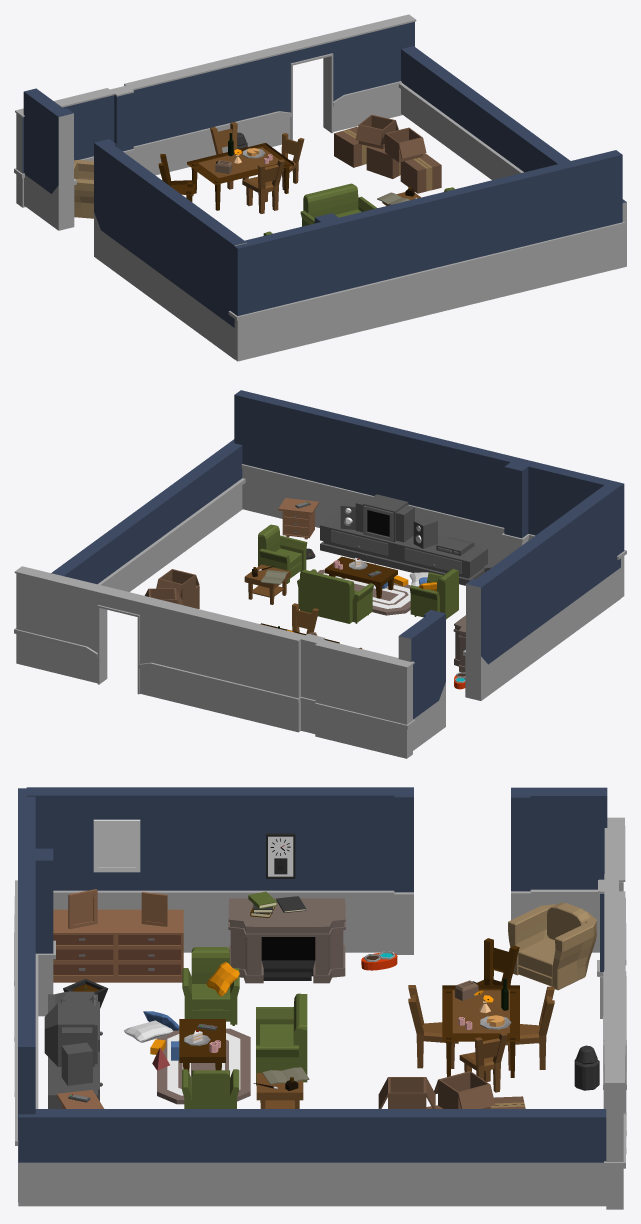
The picture shows the model from 3 angles, top to bottom: view 1: azimuth 30°, elevation 25°; view 2: azimuth 150°, elevation 25°; view 3: azimuth 270°, elevation 25°; orthographic projection. The views are drawn at different scales.
Parts seen in each view (by area): view 1: 墙1, 墙2, 墙, 墙3, 墙.001, 桌子高, big sofa, 关闭箱子, 椅子, 大沙发, 箱子, 关闭箱子.002 (+5 smaller); view 2: 墙2, 墙1, 墙, 墙3, 柜子.001, 墙.001, big sofa, 电视机, sofa.001, sofa, 床头柜, 地毯 (+6 smaller); view 3: 墙3, 墙, 墙.001, 墙1, 墙2, 壁炉, 鞋柜, 大沙发, 桌子高, big sofa, sofa, 地毯 (+21 smaller).
Boxes of the visible parts, x1=… form: 墙1: x1=228, y1=150, x2=625, y2=361; 墙2: x1=14, y1=14, x2=416, y2=207; 墙: x1=94, y1=139, x2=246, y2=359; 墙3: x1=398, y1=46, x2=626, y2=267; 墙.001: x1=23, y1=88, x2=76, y2=230; 桌子高: x1=187, y1=143, x2=293, y2=210; big sofa: x1=300, y1=183, x2=377, y2=226; 关闭箱子: x1=400, y1=153, x2=441, y2=193; 椅子: x1=242, y1=159, x2=285, y2=213; 大沙发: x1=74, y1=160, x2=93, y2=218; 箱子: x1=381, y1=127, x2=426, y2=162; 关闭箱子.002: x1=334, y1=126, x2=368, y2=167; 墙2: x1=14, y1=566, x2=415, y2=758; 墙1: x1=234, y1=390, x2=626, y2=597; 墙: x1=463, y1=482, x2=620, y2=700; 墙3: x1=51, y1=439, x2=245, y2=591; 柜子.001: x1=320, y1=512, x2=487, y2=585; 墙.001: x1=398, y1=610, x2=445, y2=750; big sofa: x1=297, y1=569, x2=373, y2=623; 电视机: x1=355, y1=494, x2=414, y2=542; sofa.001: x1=258, y1=524, x2=307, y2=583; sofa: x1=409, y1=568, x2=458, y2=619; 床头柜: x1=278, y1=498, x2=318, y2=539; 地毯: x1=317, y1=569, x2=411, y2=615; 墙3: x1=18, y1=1109, x2=606, y2=1206; 墙: x1=26, y1=787, x2=413, y2=954; 墙.001: x1=511, y1=787, x2=607, y2=952; 墙1: x1=14, y1=788, x2=55, y2=1202; 墙2: x1=597, y1=817, x2=626, y2=1209; 壁炉: x1=228, y1=898, x2=345, y2=983; 鞋柜: x1=53, y1=909, x2=183, y2=982; 大沙发: x1=508, y1=902, x2=596, y2=990; 桌子高: x1=442, y1=985, x2=519, y2=1077; big sofa: x1=256, y1=993, x2=307, y2=1085; sofa: x1=182, y1=947, x2=239, y2=1025; 地毯: x1=157, y1=1028, x2=250, y2=1104.
Size of what is drawn, in the model's own units: 2692 by 755 by 2624.
